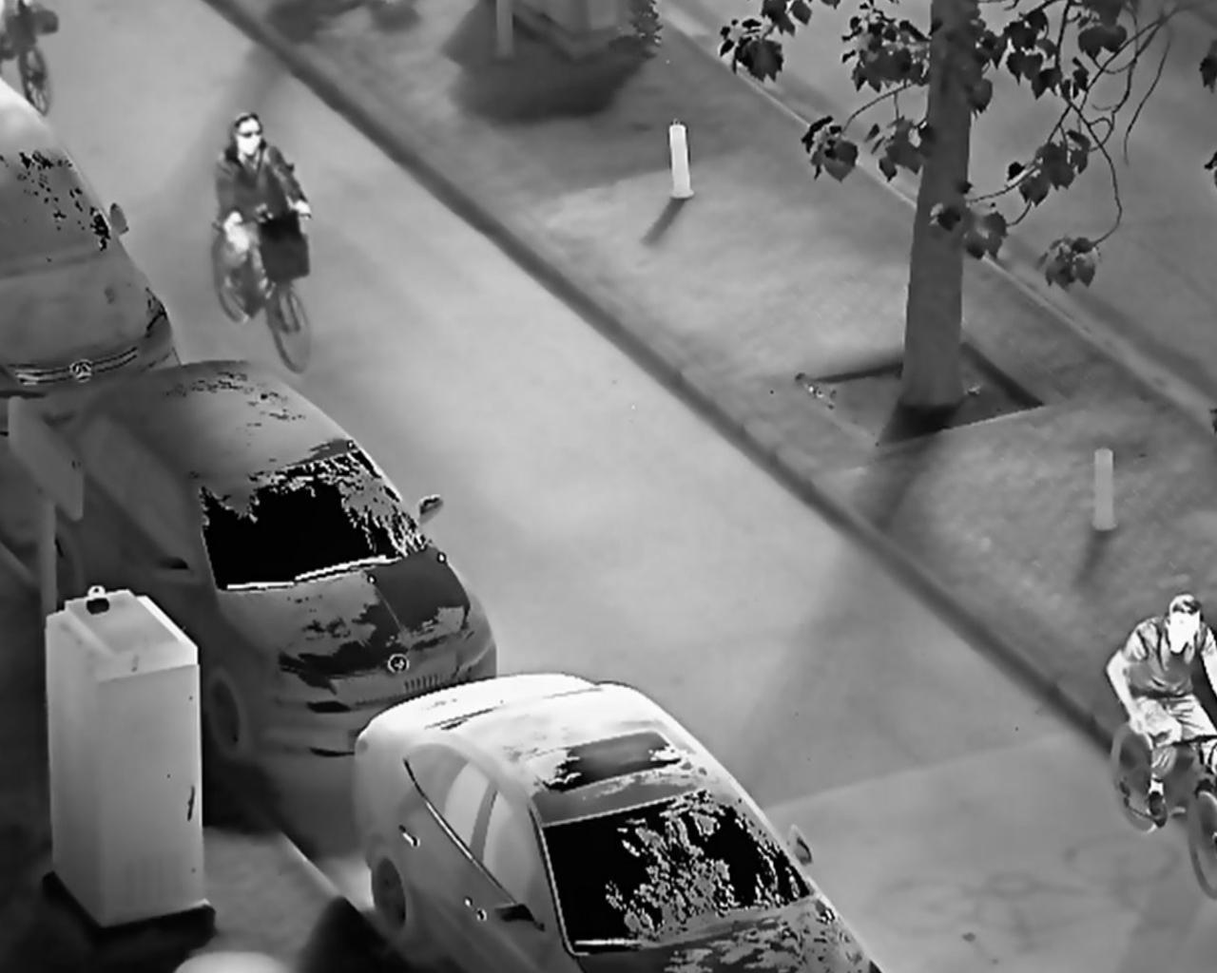person: (1101, 589, 1217, 832), (210, 106, 319, 325)
